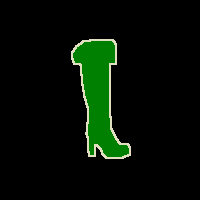shoe: (72, 40, 130, 158)
